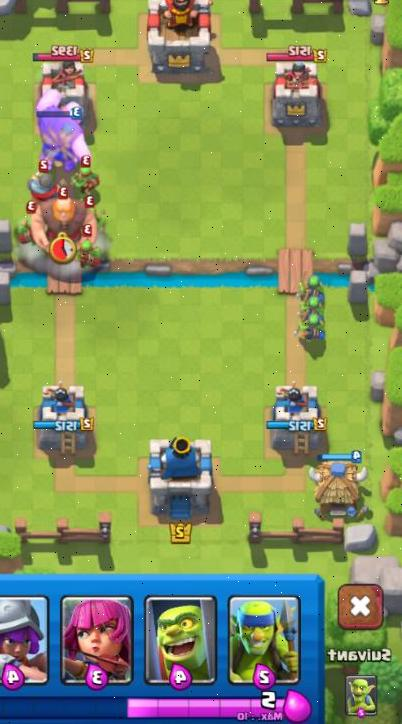enemy_giant: (32, 187, 99, 252)
enemy_knight: (25, 162, 65, 203)
enemy_spear_goblins: (71, 161, 103, 207), (76, 235, 104, 272), (14, 211, 41, 244)
player_giant: (32, 93, 95, 167)
player_goblin_hut: (307, 450, 373, 525)
player_spear_goblins: (294, 310, 329, 341), (296, 270, 327, 298)
